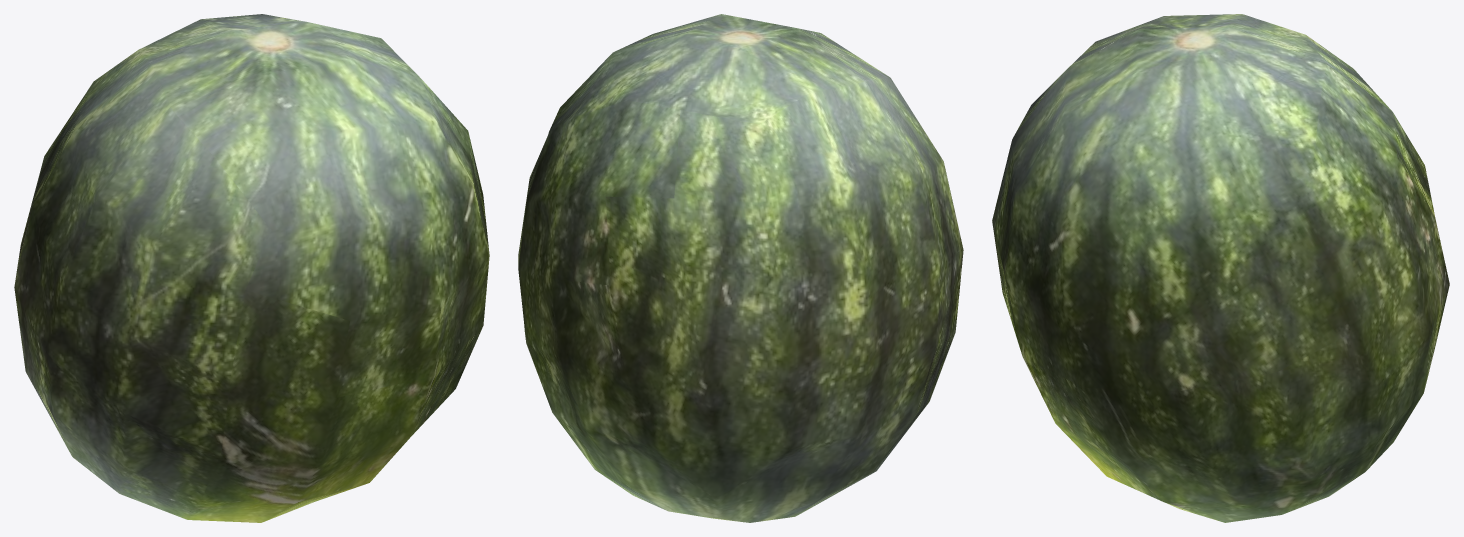
The model's file is A48_Watermelon_low.fbx.
The picture shows the model from 3 angles, left to right: view 1: azimuth 30°, elevation 25°; view 2: azimuth 150°, elevation 25°; view 3: azimuth 270°, elevation 25°; orthographic projection. The views are drawn at different scales.
Visible parts, largest first — view 1: A48_Watermelon_low; view 2: A48_Watermelon_low; view 3: A48_Watermelon_low.
Part boxes in pixels (bbox=[...]): A48_Watermelon_low: bbox=[14, 14, 489, 522]; A48_Watermelon_low: bbox=[518, 14, 963, 522]; A48_Watermelon_low: bbox=[992, 14, 1449, 522].
Size of the model in its own units: 20.14 by 19.9 by 22.24.
Materials: 1 (1 with a texture image).
